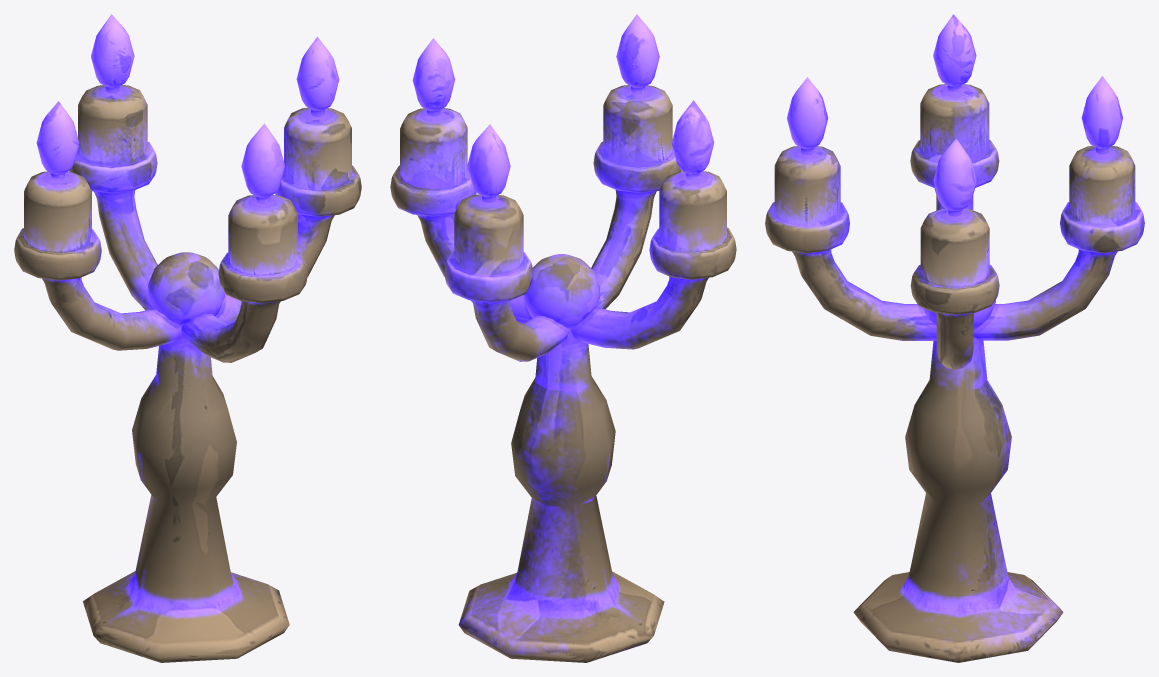
File: CANDELABRODEMESA.fbx
3 views of the same model, side by side, from view 1: azimuth 30°, elevation 25°; view 2: azimuth 150°, elevation 25°; view 3: azimuth 270°, elevation 25° (orthographic).
Parts seen in each view (by area): view 1: CANDELABROMESA; view 2: CANDELABROMESA; view 3: CANDELABROMESA.
Part boxes in pixels (x1,y1,x2,y2): CANDELABROMESA: (14,14,361,662); CANDELABROMESA: (390,14,736,662); CANDELABROMESA: (765,14,1144,662).
Size of what is drawn, in the model's own units: 32.15 by 50.85 by 32.15.
